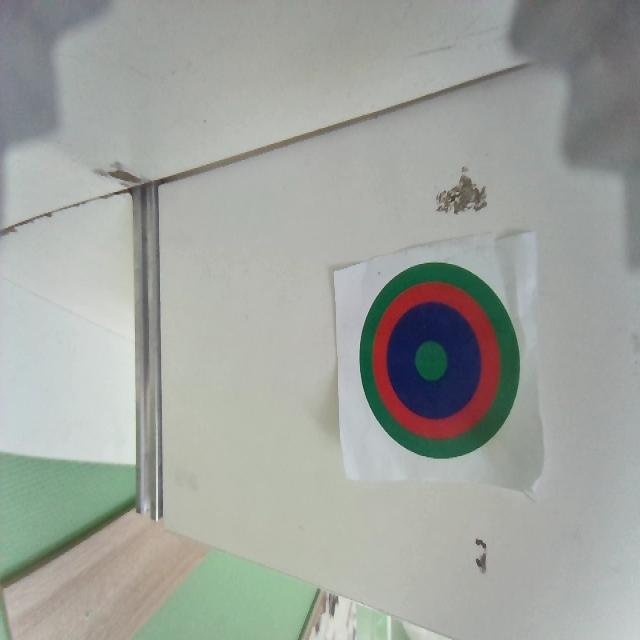cogn: (359, 260, 520, 458)
